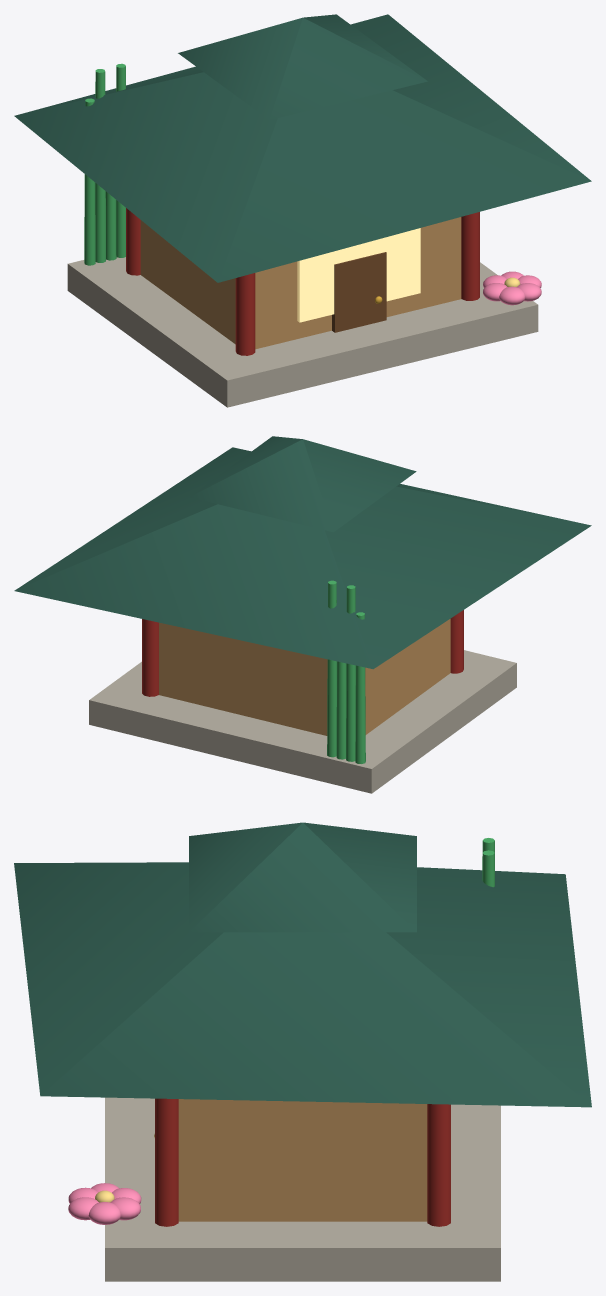
The model's file is biz_massage.glb.
3 views of the same model, one above another, from view 1: azimuth 30°, elevation 25°; view 2: azimuth 150°, elevation 25°; view 3: azimuth 270°, elevation 25° (orthographic). The views are drawn at different scales.
Size of the model in its own units: 4.67 by 3.25 by 4.67.
